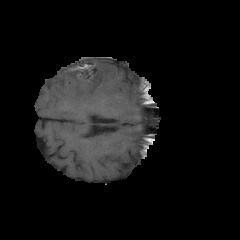glioma: (40, 61, 117, 113)
